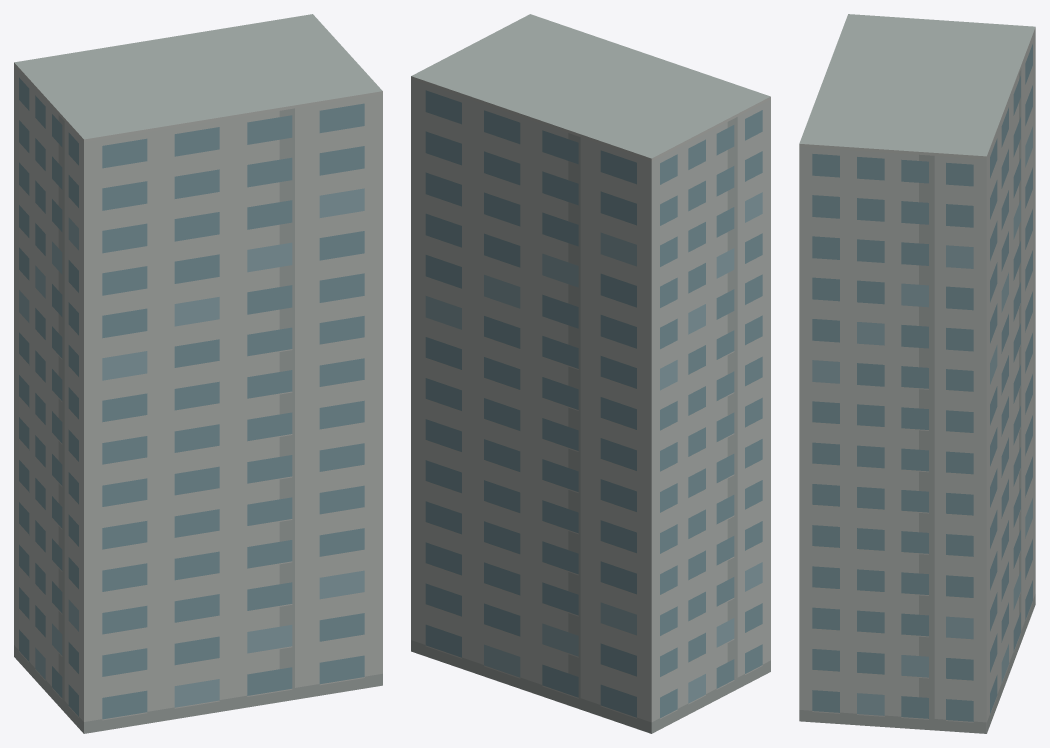
Rendered from residential-8711e102-d3fb-48dd-b592-55028871eb17.glb.
The picture shows the model from 3 angles, left to right: view 1: azimuth 30°, elevation 25°; view 2: azimuth 150°, elevation 25°; view 3: azimuth 270°, elevation 25°; orthographic projection. The views are drawn at different scales.
Visible parts, largest first — view 1: residential-8711e102-d3fb-48dd-b592-55028871eb17.tmp; view 2: residential-8711e102-d3fb-48dd-b592-55028871eb17.tmp; view 3: residential-8711e102-d3fb-48dd-b592-55028871eb17.tmp.
Boxes of the visible parts, x1,y1,x2,y2 form: residential-8711e102-d3fb-48dd-b592-55028871eb17.tmp: [14, 14, 382, 733]; residential-8711e102-d3fb-48dd-b592-55028871eb17.tmp: [411, 14, 770, 733]; residential-8711e102-d3fb-48dd-b592-55028871eb17.tmp: [799, 14, 1035, 733].
Bounding box in the file's own units: 25.39 × 48 × 17.82.
